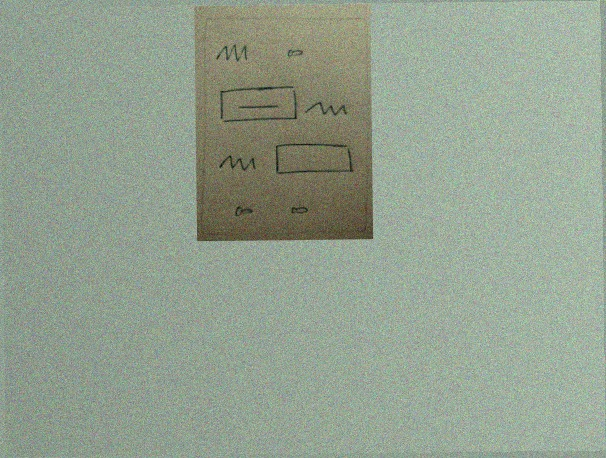button: (216, 82, 304, 126)
switch: (282, 200, 319, 219), (229, 201, 258, 220), (283, 44, 309, 62)
text: (214, 149, 258, 176), (212, 40, 254, 66), (302, 98, 353, 119)
text_input: (271, 138, 359, 179)
